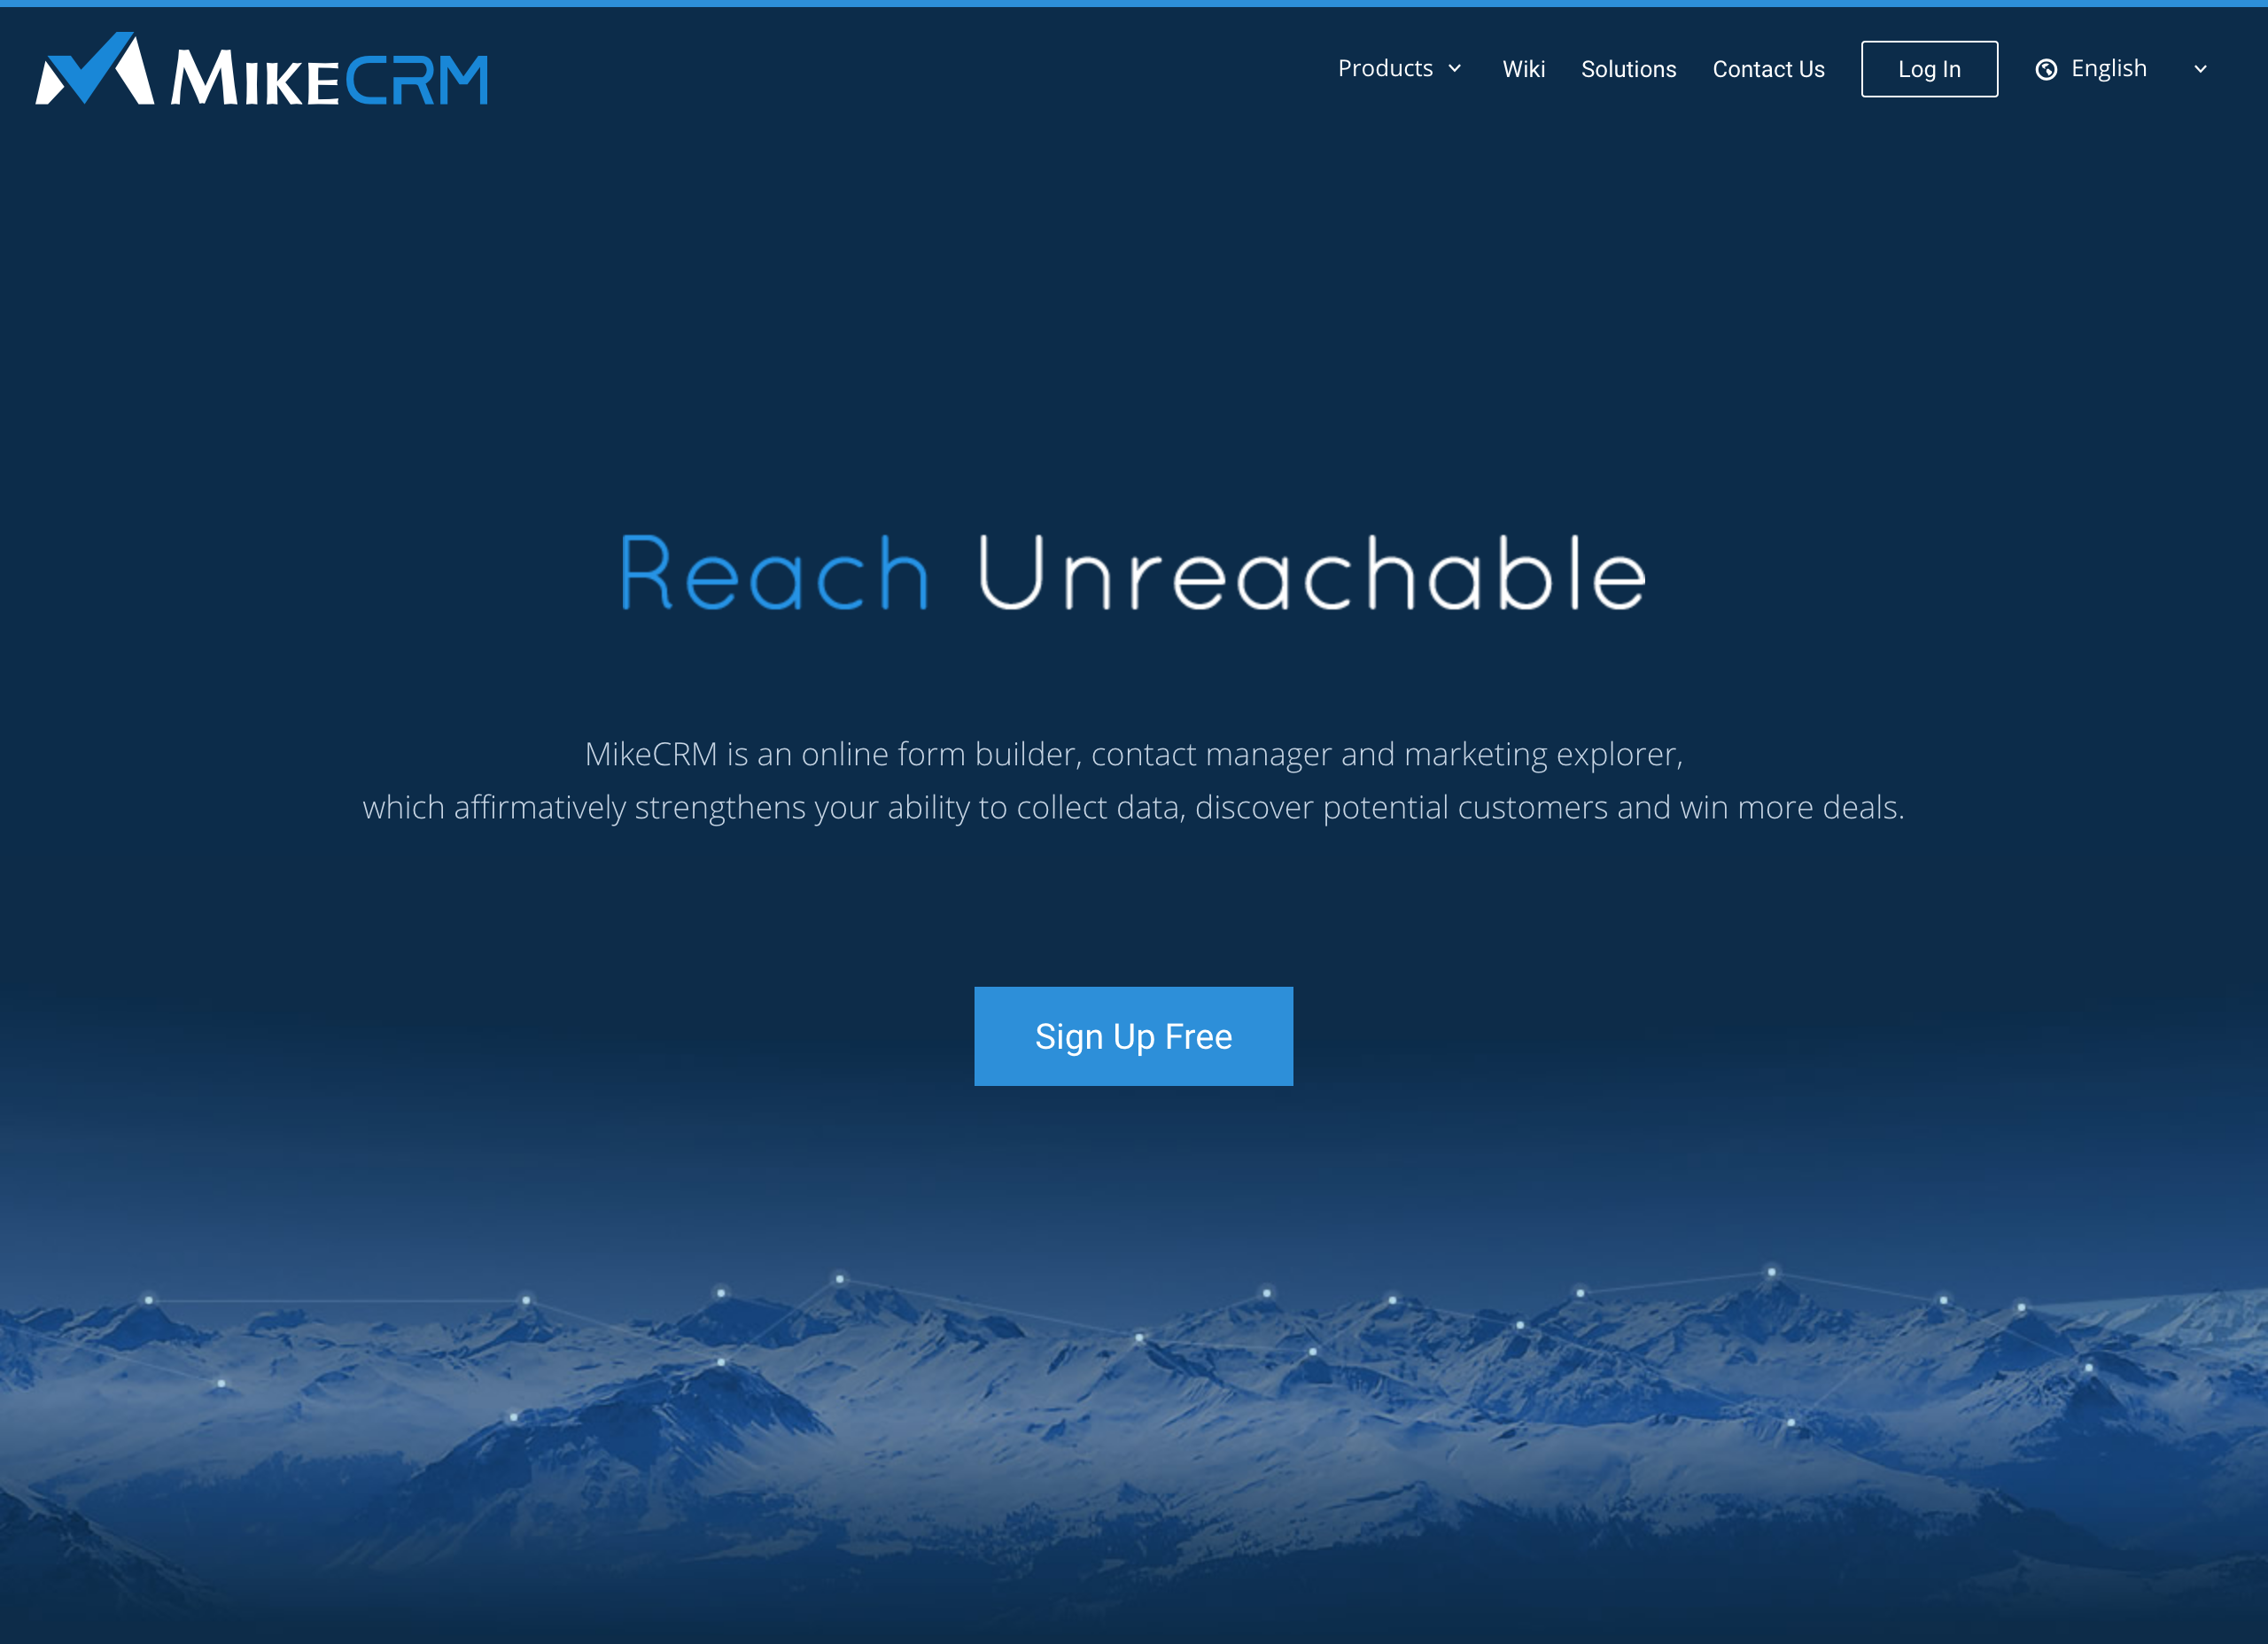Login: (1852, 21, 2021, 120)
